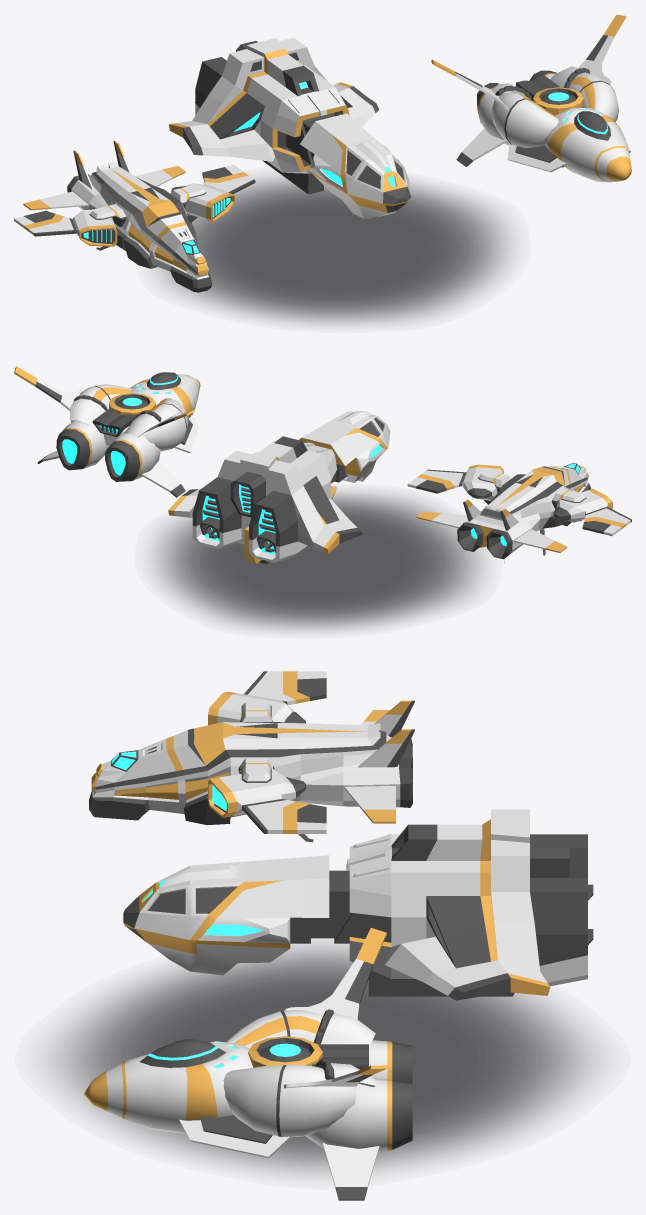
File: obj_aircraft.glb
3 renders of one model, top to bottom at view 1: azimuth 30°, elevation 25°; view 2: azimuth 150°, elevation 25°; view 3: azimuth 270°, elevation 25°, orthographic. The views are drawn at different scales.
Visible parts, largest first — view 1: plane_shadow, SA_4, SA_3, SA_2; view 2: plane_shadow, SA_4, SA_2, SA_3; view 3: SA_4, plane_shadow, SA_2, SA_3.
Part boxes in pixels (<box>): plane_shadow: <box>157,176,511,324</box>; SA_4: <box>169,37,411,219</box>; SA_3: <box>14,141,255,292</box>; SA_2: <box>431,14,631,182</box>; plane_shadow: <box>152,491,484,630</box>; SA_4: <box>168,411,390,564</box>; SA_2: <box>14,366,200,497</box>; SA_3: <box>407,463,631,563</box>; SA_4: <box>123,809,593,1000</box>; plane_shadow: <box>48,943,597,1175</box>; SA_2: <box>84,928,412,1200</box>; SA_3: <box>89,671,414,842</box>.
Bounding box in the file's own units: 451 × 108 × 260.
Materials: 13 (1 with a texture image).
